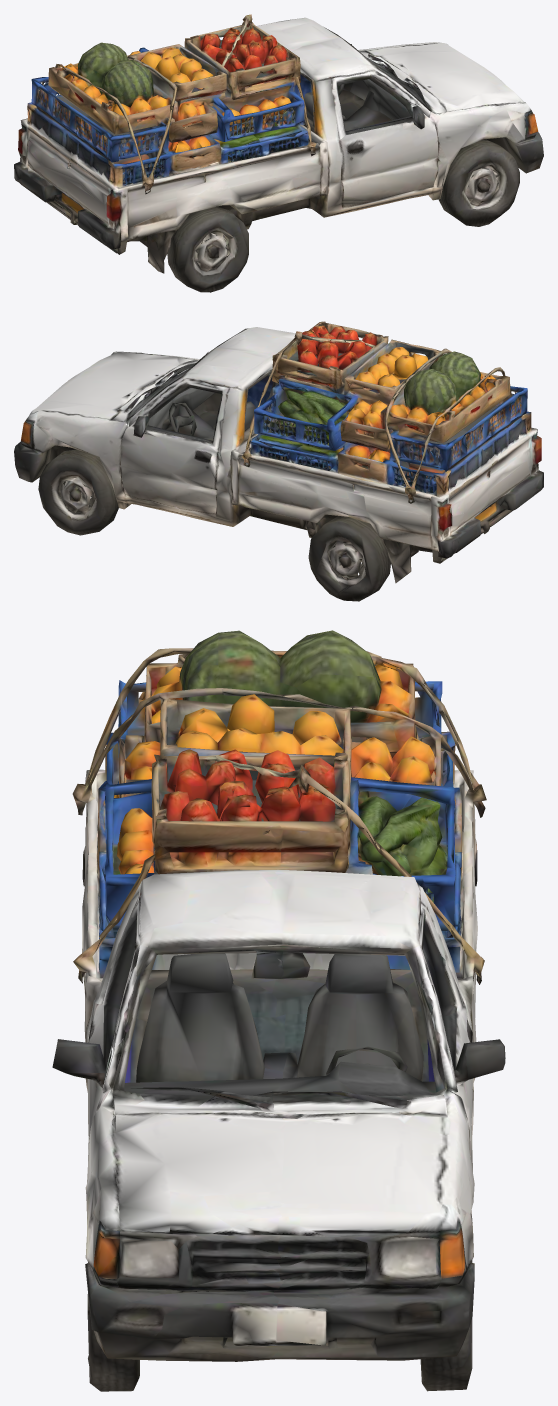
The model's file is veh_pickup.glb.
The picture shows the model from 3 angles, top to bottom: view 1: azimuth 30°, elevation 25°; view 2: azimuth 150°, elevation 25°; view 3: azimuth 270°, elevation 25°; orthographic projection. The views are drawn at different scales.
Visible parts, largest first — view 1: tripo_node_fe15be2b-842b-46d2-991f-df3c982cffc2; view 2: tripo_node_fe15be2b-842b-46d2-991f-df3c982cffc2; view 3: tripo_node_fe15be2b-842b-46d2-991f-df3c982cffc2.
Boxes of the visible parts, x1,y1,x2,y2 form: tripo_node_fe15be2b-842b-46d2-991f-df3c982cffc2: [14, 14, 543, 292]; tripo_node_fe15be2b-842b-46d2-991f-df3c982cffc2: [14, 321, 543, 601]; tripo_node_fe15be2b-842b-46d2-991f-df3c982cffc2: [52, 630, 505, 1391].
Size of the model in its own units: 0.9996 by 0.4662 by 0.4378.
1 material, 1 textured.
